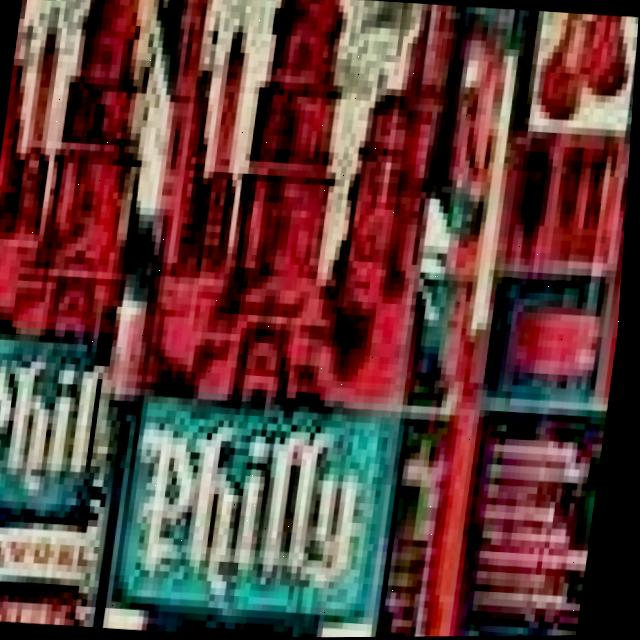metal: (95, 0, 525, 639), (407, 6, 639, 637), (0, 0, 193, 628)
